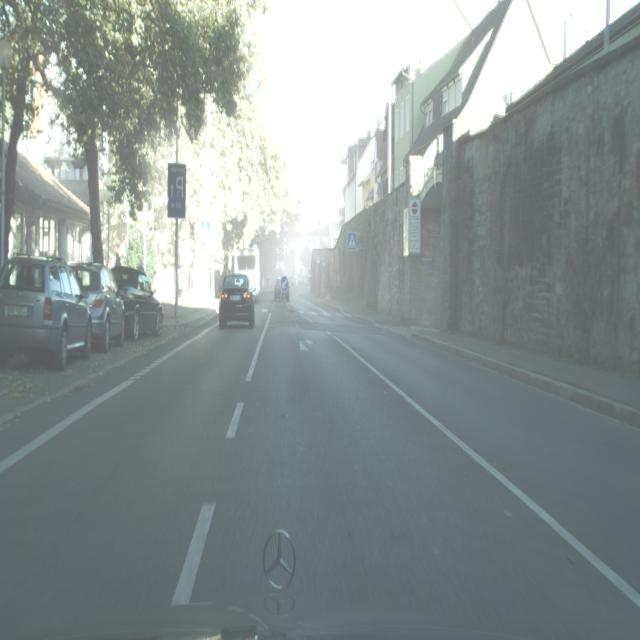car: (232, 246, 260, 302)
person: (0, 256, 92, 372), (69, 261, 125, 352), (110, 265, 164, 341), (218, 272, 255, 329), (273, 276, 290, 302)
